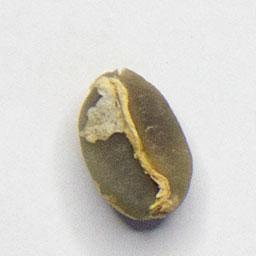premium: (76, 65, 195, 224)
